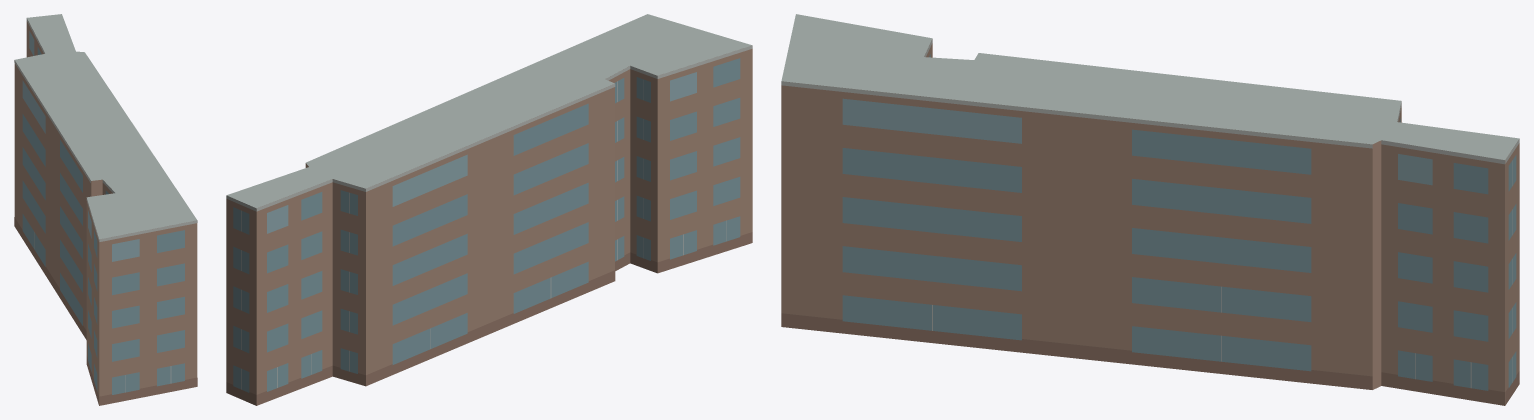
File: survey-upis-32639557.glb
3 renders of one model, left to right at view 1: azimuth 30°, elevation 25°; view 2: azimuth 150°, elevation 25°; view 3: azimuth 270°, elevation 25°, orthographic. The views are drawn at different scales.
Visible parts, largest first — view 1: survey-upis-32639557.tmp; view 2: survey-upis-32639557.tmp; view 3: survey-upis-32639557.tmp.
Boxes of the visible parts, bbox=[...] form: survey-upis-32639557.tmp: bbox=[14, 14, 197, 405]; survey-upis-32639557.tmp: bbox=[226, 14, 752, 405]; survey-upis-32639557.tmp: bbox=[781, 14, 1519, 405].
Size of the model in its own units: 18.45 by 14.45 by 39.36.
